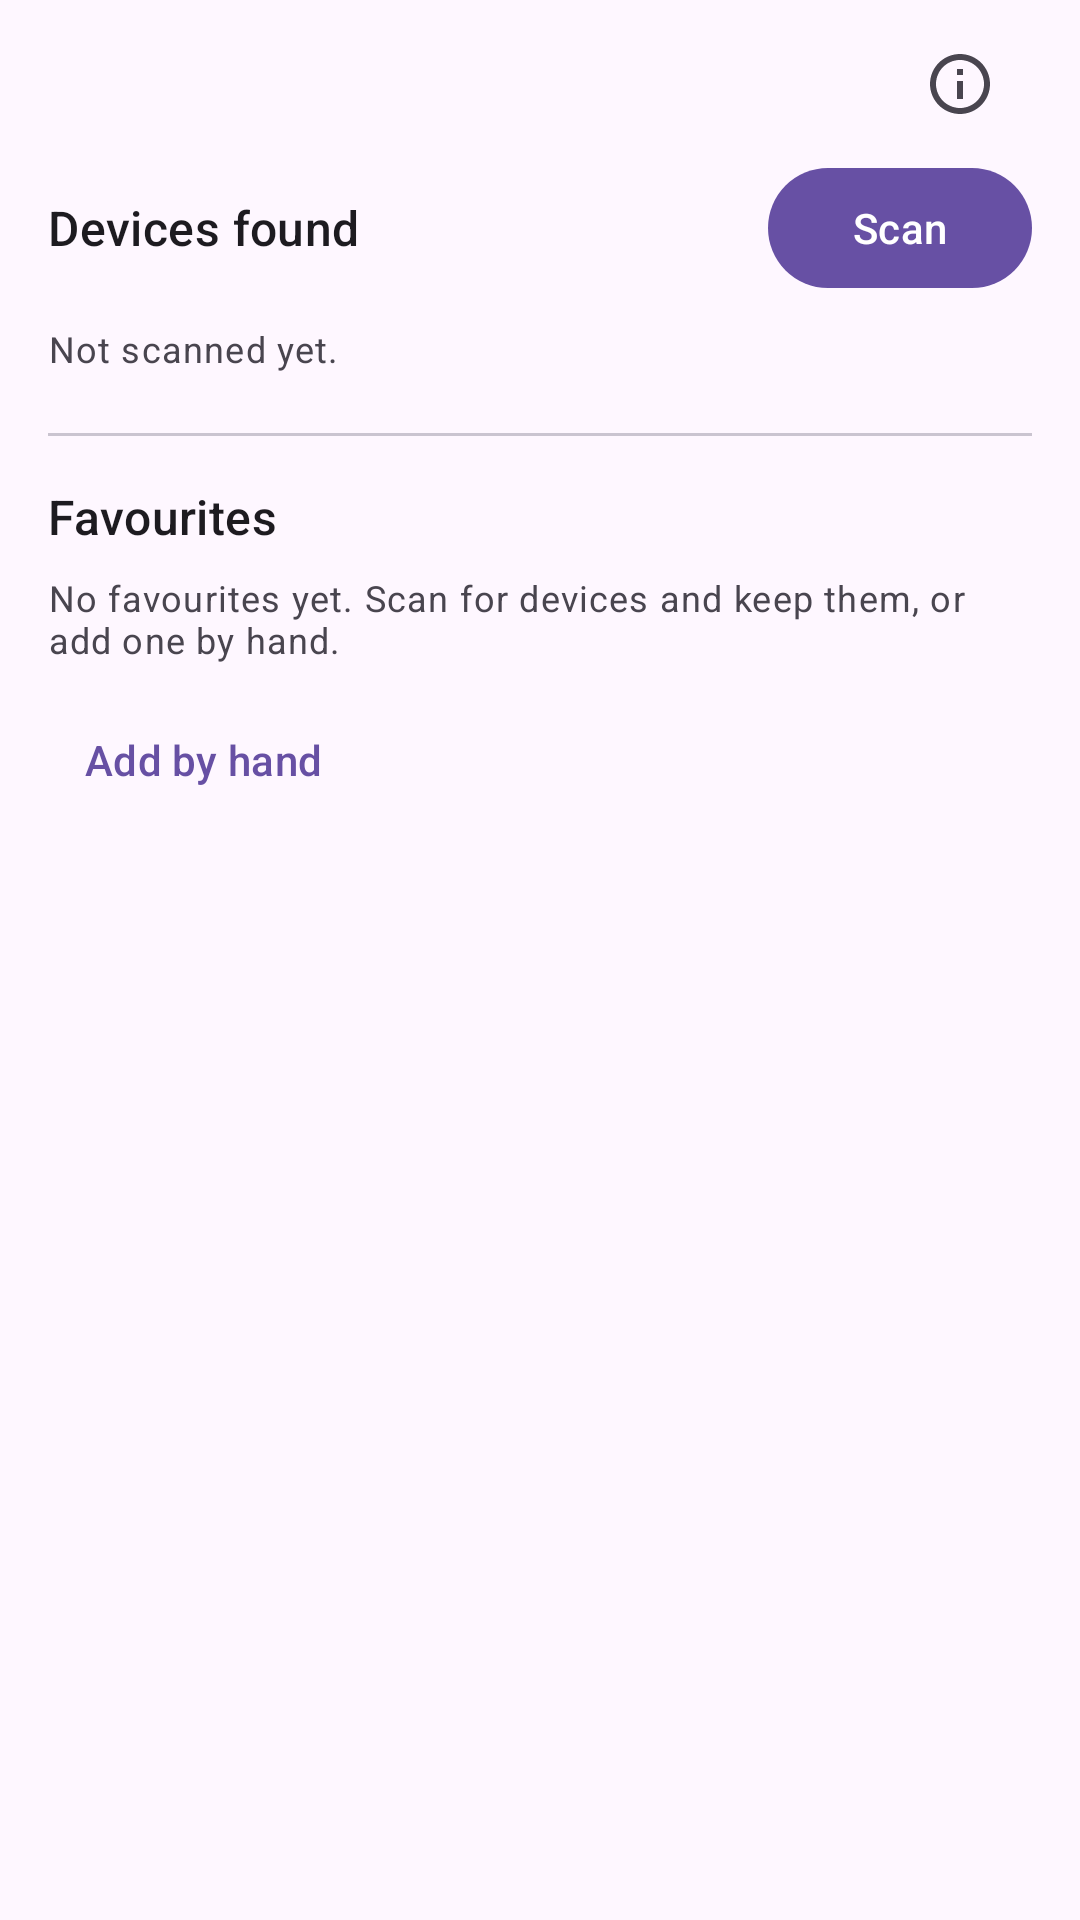

Locate icon controls on the screen. Image size 1080 x 1920, boxes as box=[x1, y1, x2, y2].
Info: box=[930, 54, 990, 114]
